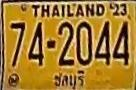0: (77, 21, 93, 65)
2: (58, 22, 74, 66)
4: (112, 20, 128, 64), (28, 21, 44, 65), (94, 20, 110, 64)
7: (10, 22, 25, 65)
CBI: (53, 70, 87, 90)
